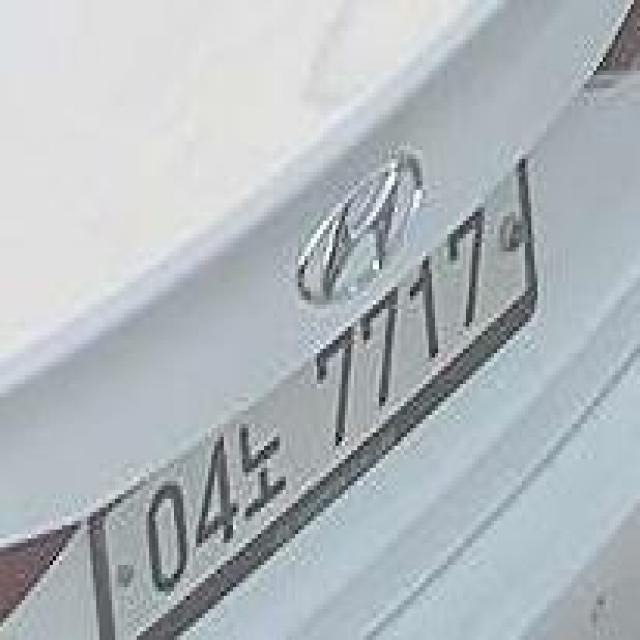illegal_plate: (96, 154, 540, 640)
